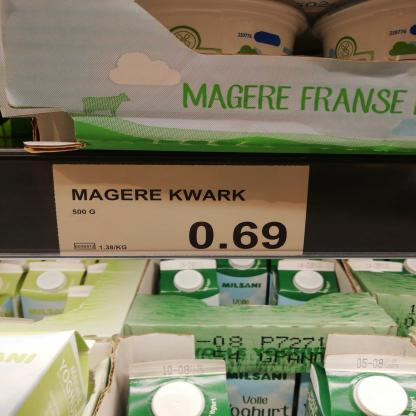prtg: (53, 167, 310, 257)
